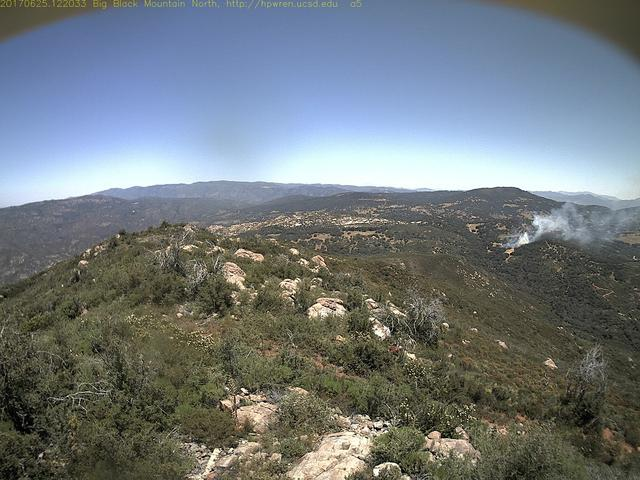smoke: (501, 193, 636, 254)
